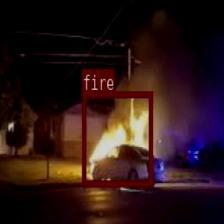fire: (81, 90, 152, 185)
